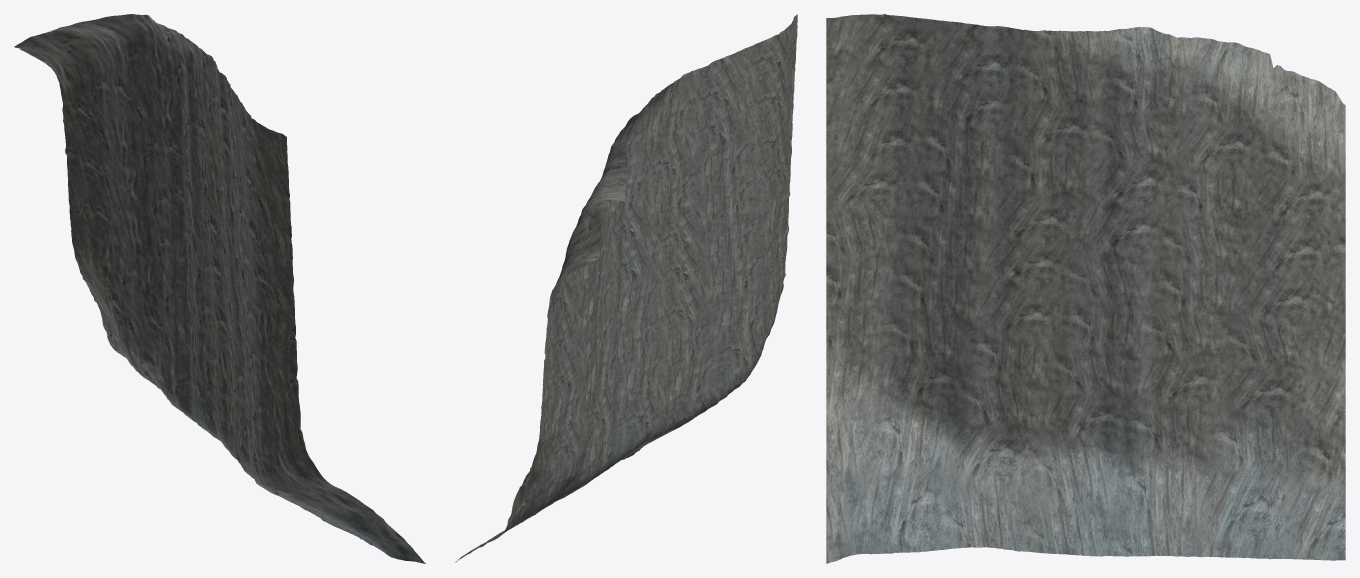
Rendered from kineo-east-cliff.glb.
3 views of the same model, side by side, from view 1: azimuth 30°, elevation 25°; view 2: azimuth 150°, elevation 25°; view 3: azimuth 270°, elevation 25° (orthographic). The views are drawn at different scales.
Parts seen in each view (by area): view 1: kineo east cliff; view 2: kineo east cliff; view 3: kineo east cliff.
Boxes of the visible parts, x1=… form: kineo east cliff: x1=14, y1=14, x2=425, y2=563; kineo east cliff: x1=455, y1=14, x2=797, y2=562; kineo east cliff: x1=826, y1=14, x2=1345, y2=563.
Bounding box in the file's own units: 68.74 × 183 × 181.
Materials: 1 (1 with a texture image).
